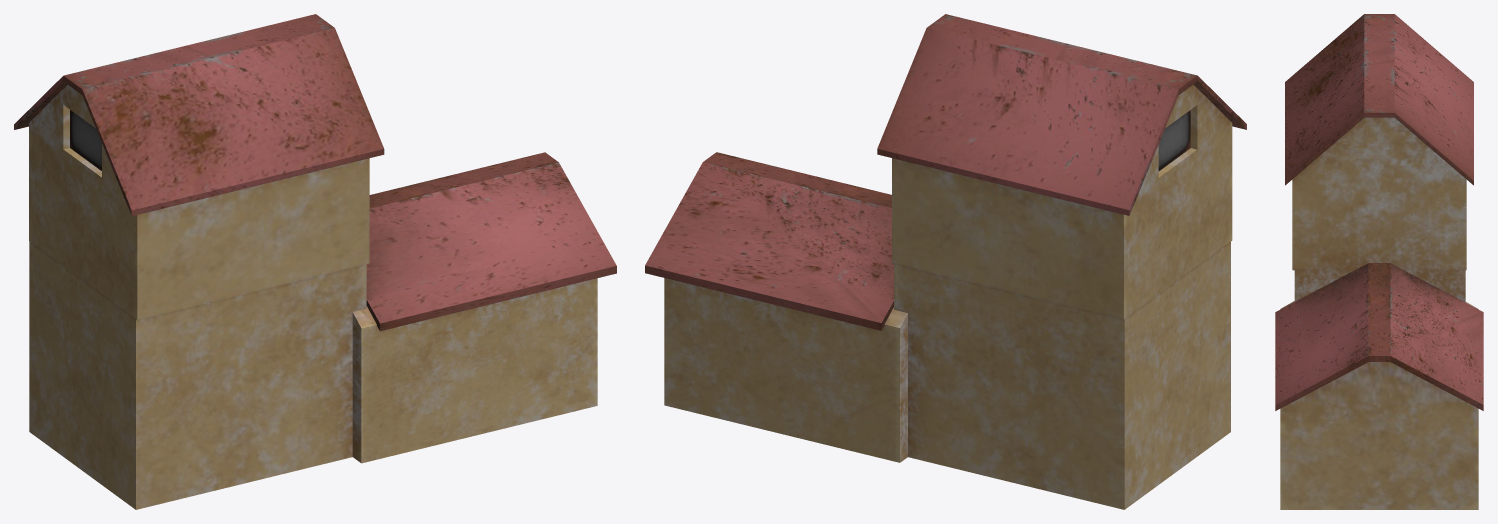
The model's file is Bangunan Terbengkalai 5.fbx.
3 renders of one model, left to right at view 1: azimuth 30°, elevation 25°; view 2: azimuth 150°, elevation 25°; view 3: azimuth 270°, elevation 25°, orthographic. The views are drawn at different scales.
Visible parts, largest first — view 1: Cube, Cube.034, Cube.032, Cube.001, Cube.033; view 2: Cube, Cube.034, Cube.032, Cube.001, Cube.033; view 3: Cube.001, Cube.032, Cube.033, Cube.034, Cube.
Part boxes in pixels (x1,y1,x2,y2): Cube: (29, 241, 366, 509); Cube.034: (14, 14, 384, 215); Cube.032: (29, 85, 369, 319); Cube.001: (352, 278, 597, 463); Cube.033: (366, 152, 616, 331); Cube: (894, 242, 1230, 509); Cube.034: (877, 14, 1246, 215); Cube.032: (892, 84, 1232, 319); Cube.001: (664, 278, 907, 462); Cube.033: (645, 152, 893, 330); Cube.001: (1280, 301, 1478, 509); Cube.032: (1292, 117, 1466, 270); Cube.033: (1275, 263, 1483, 410); Cube.034: (1285, 14, 1473, 185); Cube: (1294, 270, 1465, 302).
Bounding box in the file's own units: 511 × 399 × 239.
Materials: 3 (3 with a texture image).
